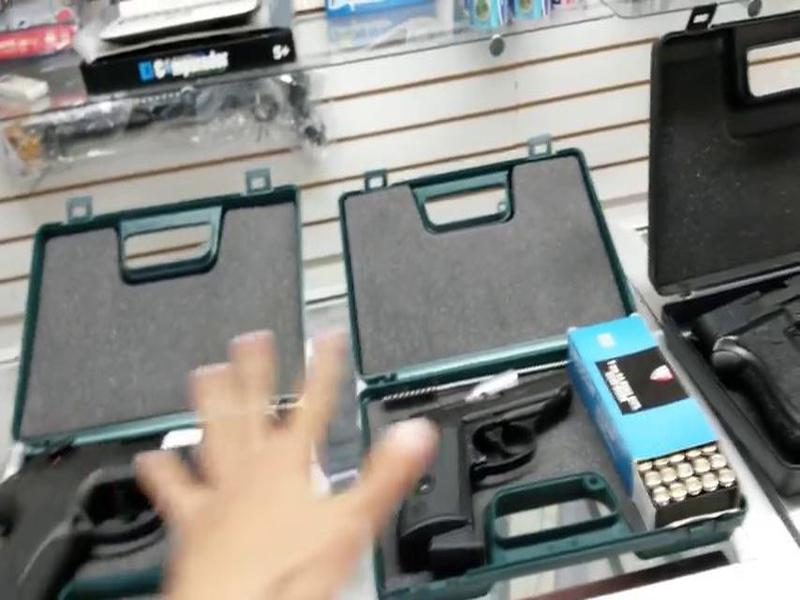Pistola: (353, 344, 634, 592)
